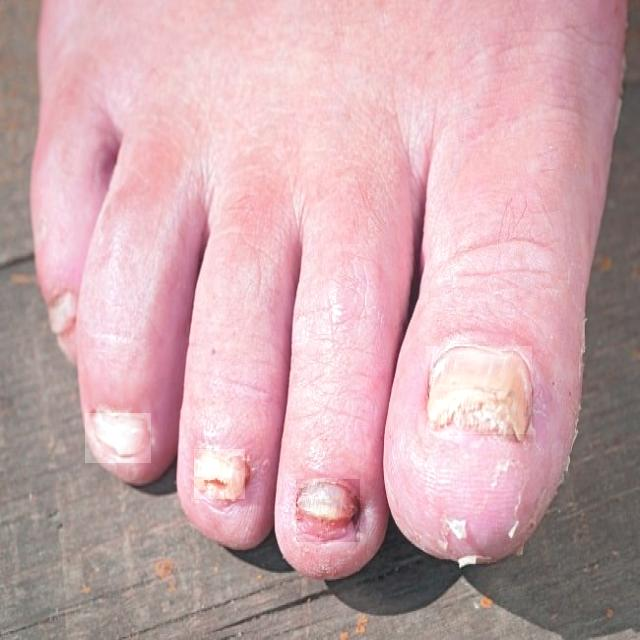diabetes: (427, 347, 532, 434), (296, 480, 360, 542), (86, 414, 151, 463), (195, 450, 245, 499)
